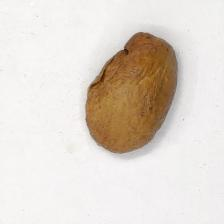NG: (88, 38, 132, 86)
